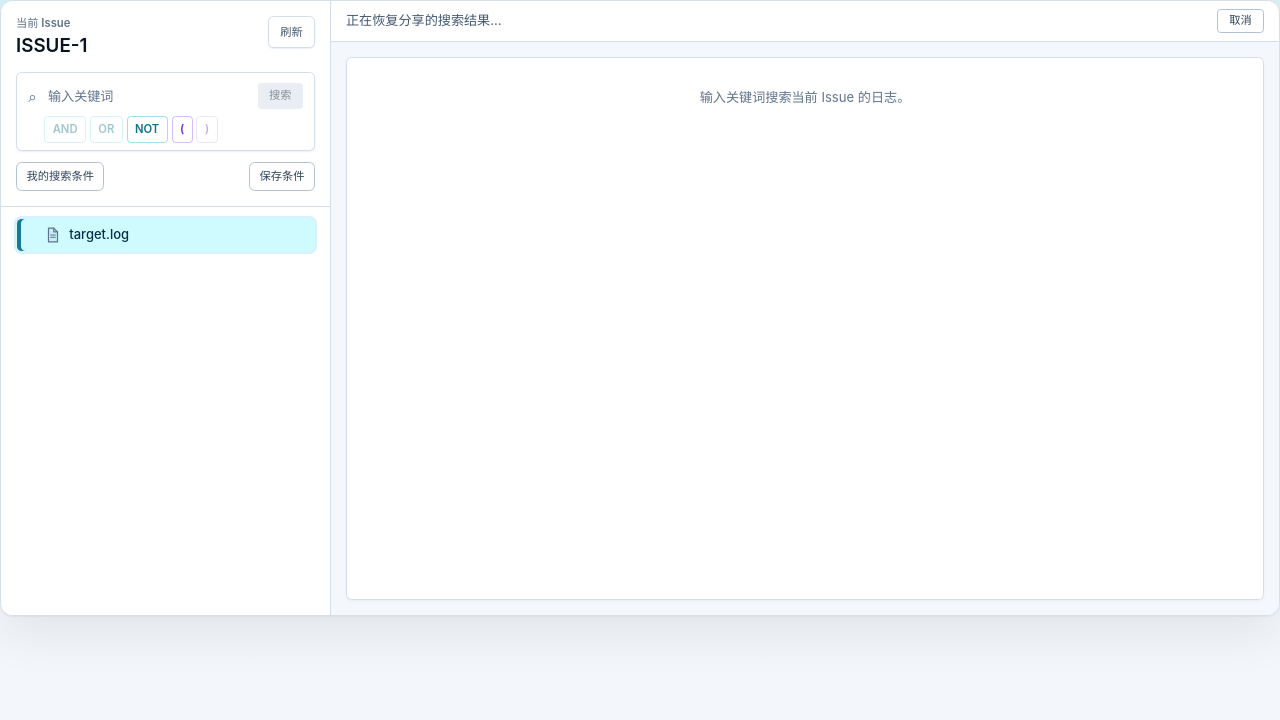
Test: shared file search restoration › keeps a new Issue search active when a shared search restore finishes later
Type "issuequery" into the field named "日志内容搜索条件" at (147,96), box [44,81,250,111]
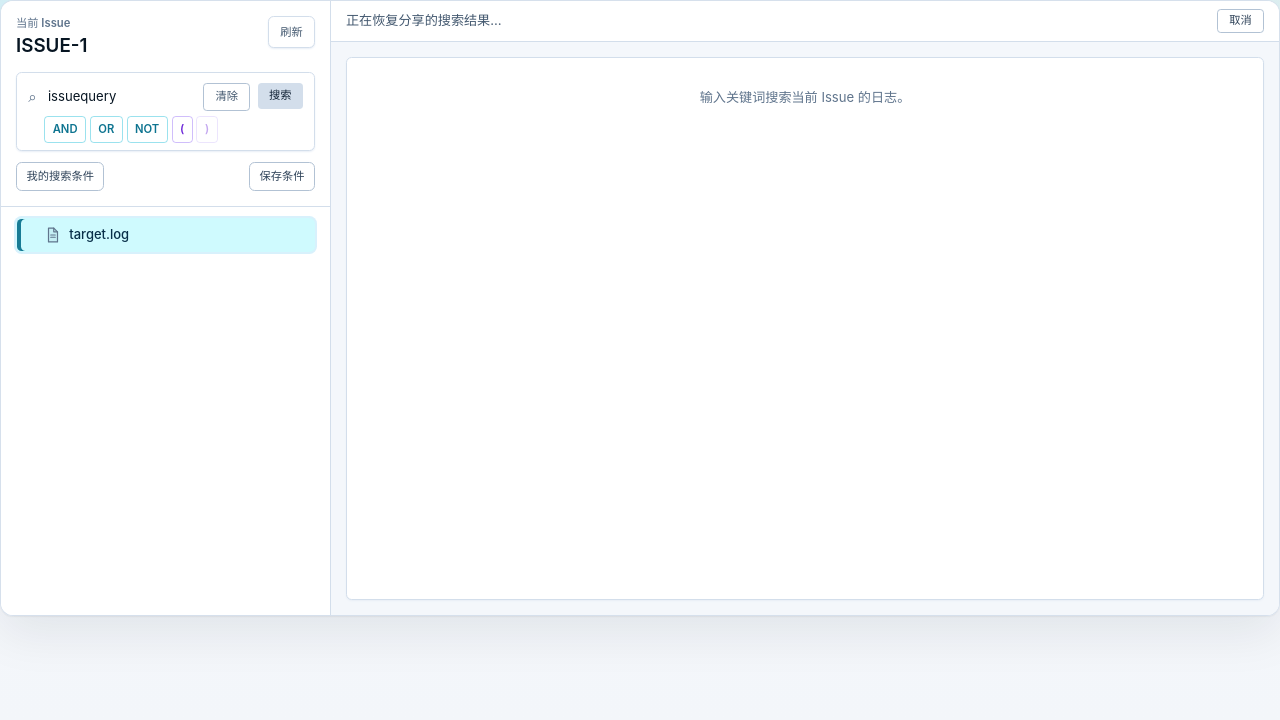
Click the button named "搜索日志内容" at (280,96), box [258,83,303,109]
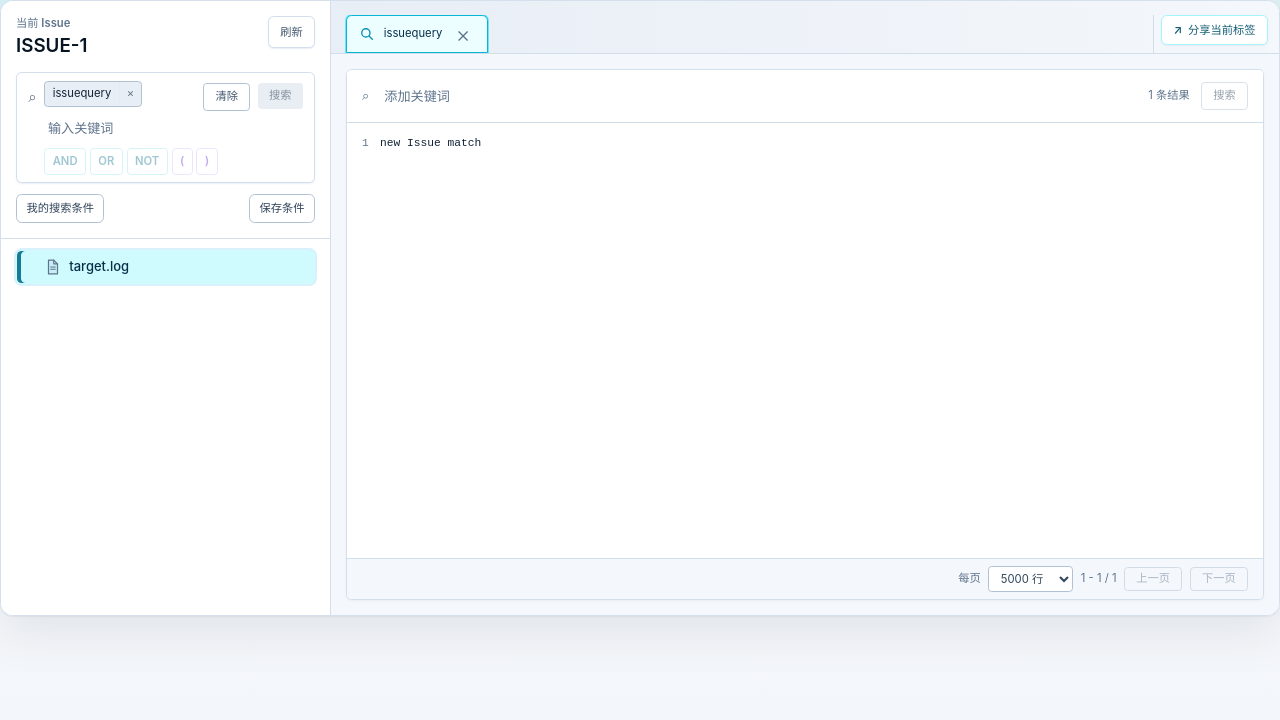
Check: the text "new Issue match" is shown, box [380,137,481,149]
